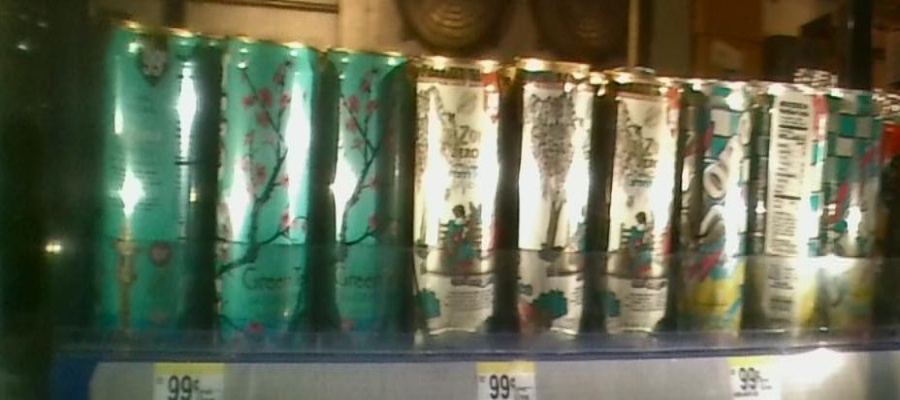bottle: (89, 13, 210, 348), (214, 15, 319, 357), (407, 36, 508, 352), (321, 27, 406, 357), (511, 40, 598, 349), (602, 53, 677, 351), (754, 67, 824, 351), (682, 64, 749, 341), (828, 73, 884, 340)
